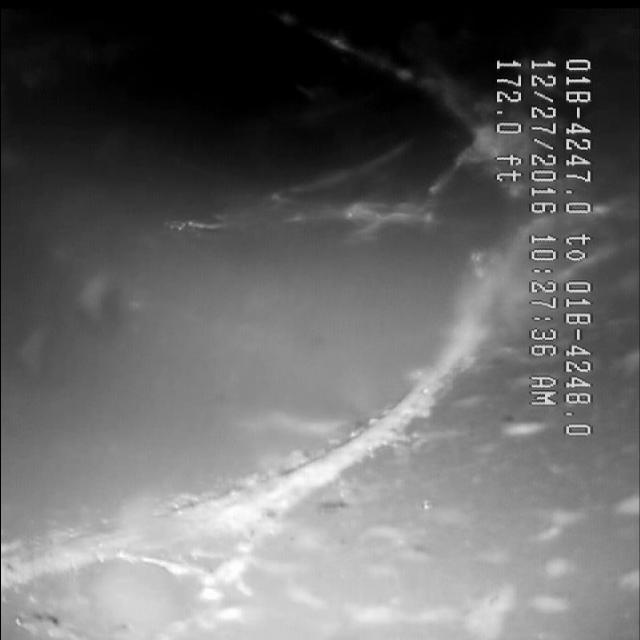Crack: (111, 364, 472, 556)
